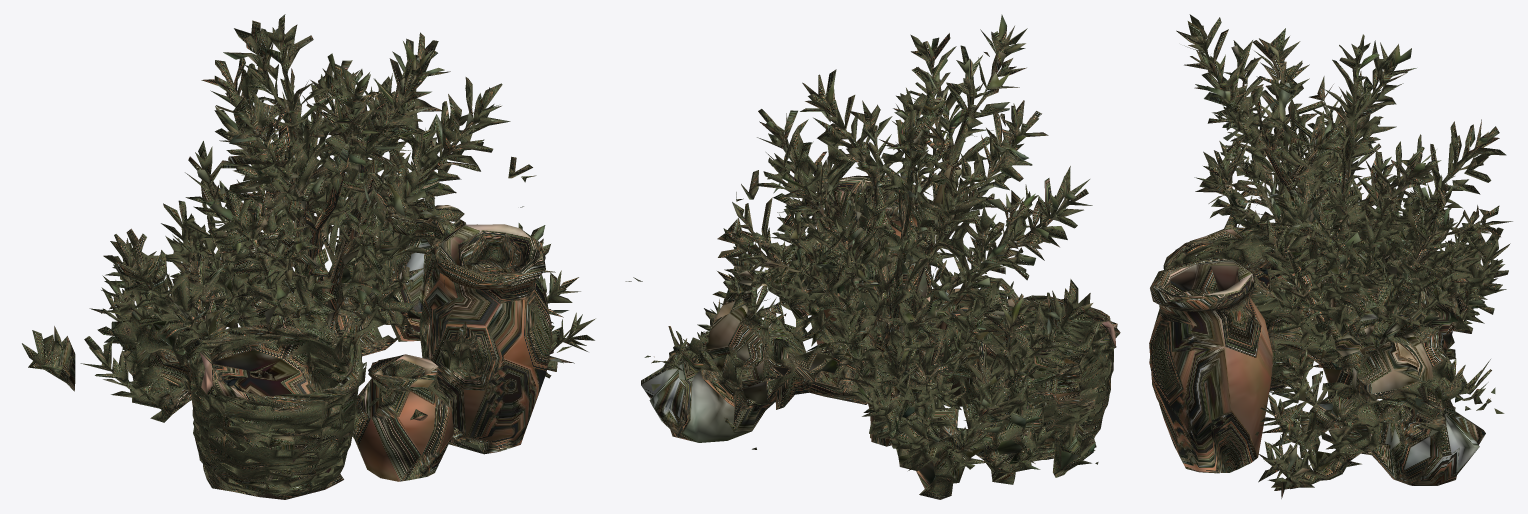
The model's file is olive-basket-cluster-a.glb.
The picture shows the model from 3 angles, left to right: view 1: azimuth 30°, elevation 25°; view 2: azimuth 150°, elevation 25°; view 3: azimuth 270°, elevation 25°; orthographic projection. The views are drawn at different scales.
Visible parts, largest first — view 1: geometry_0; view 2: geometry_0; view 3: geometry_0.
Boxes of the visible parts, left/top/right/bottom form: geometry_0: left=22, top=14, right=595, bottom=499; geometry_0: left=625, top=14, right=1120, bottom=499; geometry_0: left=1149, top=14, right=1512, bottom=498.
Size of the model in its own units: 1.91 by 1.5 by 1.3.
Materials: 1 (1 with a texture image).
